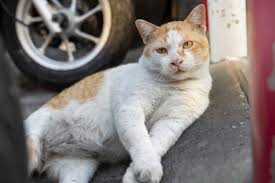cat: (15, 3, 212, 183)
